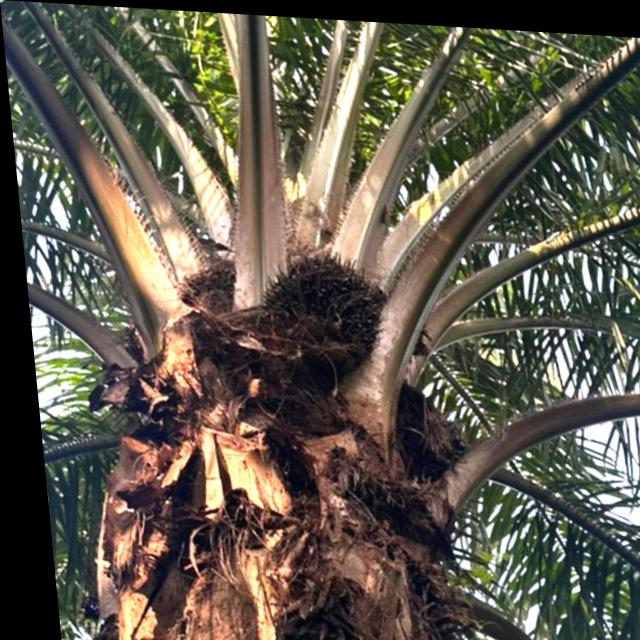unripe: (246, 237, 393, 362)
